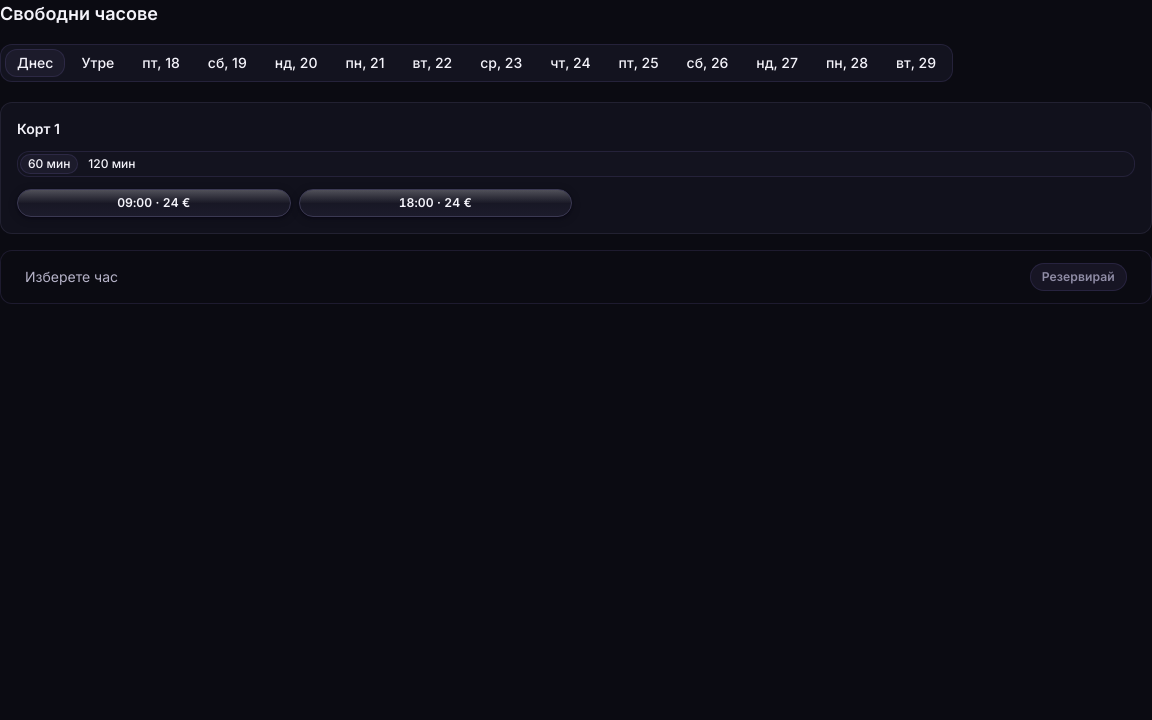
the confirmation sheet › shows court, date, time, length, price, paid at the club, and the cancel deadline
What coordinates should you click on to do the following:
click the button "09:00 · 24 €"
I would click on:
 (154, 203)
Its box is [17,189,290,217].
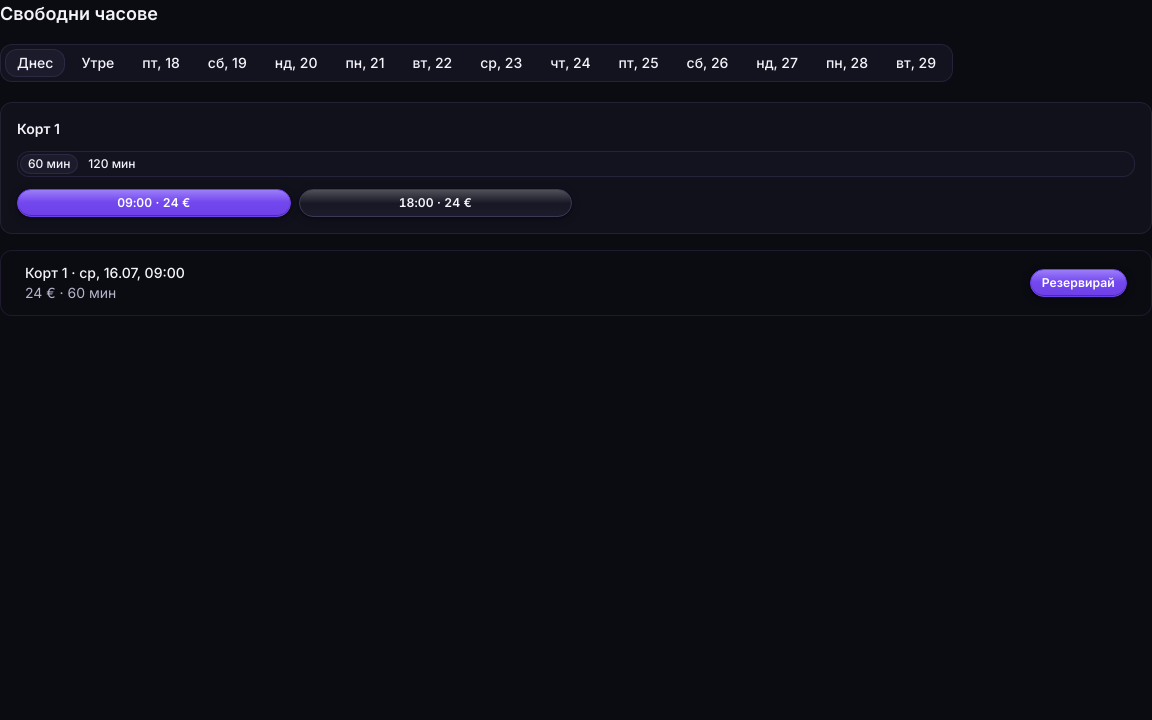
What coordinates should you click on to do the following:
click the button "Резервирай"
I would click on:
 (1078, 283)
Its box is [1030,269,1127,297].
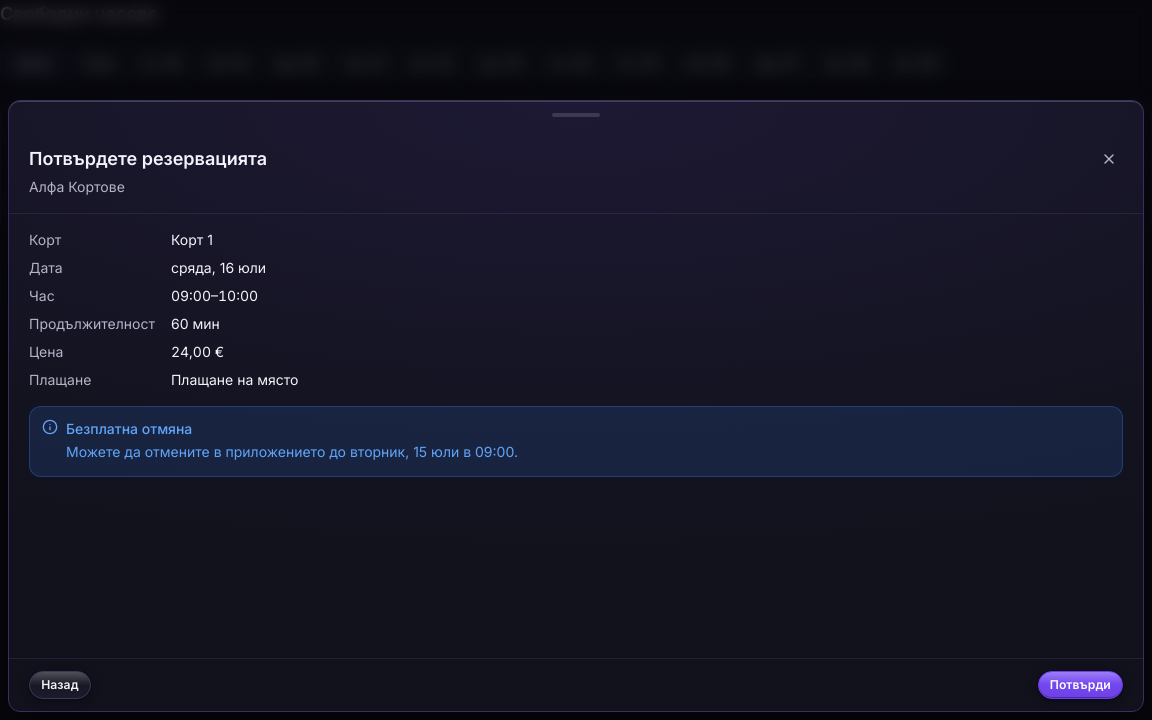
Expected: the text "Корт 1" is shown, [171,231,213,248]
Expected: the text "09:00–10:00" is shown, [171,287,258,304]
Expected: the text "60 мин" is shown, [171,315,220,332]
